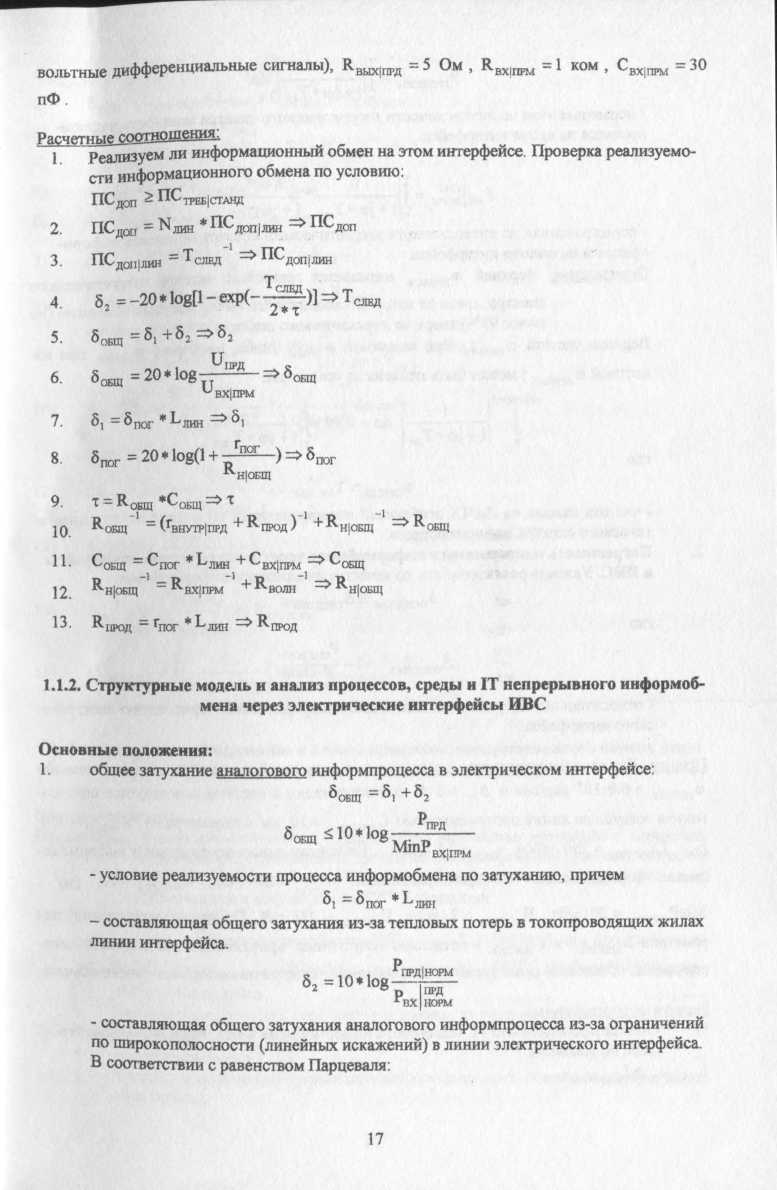C.вх.прм: (249, 548, 303, 573)
C.общ: (87, 549, 129, 571), (165, 492, 204, 513)
C.пог: (144, 550, 182, 573)
L.лин: (401, 884, 437, 910), (191, 612, 230, 634), (197, 552, 230, 573)
P.вх.прд.норм: (394, 987, 453, 1012)
P.прд.норм: (392, 959, 458, 977)
R.волн: (253, 574, 297, 601)
R.вх.прм: (169, 576, 222, 601)
R.н.общ: (89, 578, 142, 603), (322, 509, 374, 534), (220, 463, 272, 485)
R.общ: (88, 514, 127, 540), (116, 488, 154, 513)
R.прод: (91, 613, 133, 637), (244, 513, 288, 535)
U.вх.прм: (198, 380, 257, 400)
U.прд: (207, 348, 245, 370)
r.внутр.прд: (169, 516, 226, 535)
r.пог: (151, 613, 177, 633), (229, 440, 263, 451)
δ.1: (83, 412, 104, 431), (379, 784, 400, 802), (141, 324, 157, 347), (319, 890, 340, 906)
δ.2: (411, 780, 434, 803), (170, 322, 192, 343), (91, 290, 109, 314), (303, 971, 319, 996)
δ.общ: (90, 327, 126, 349), (88, 370, 126, 389), (327, 783, 360, 801)
δ.пог: (90, 445, 122, 470), (355, 890, 386, 907)
τ: (88, 491, 101, 510)
